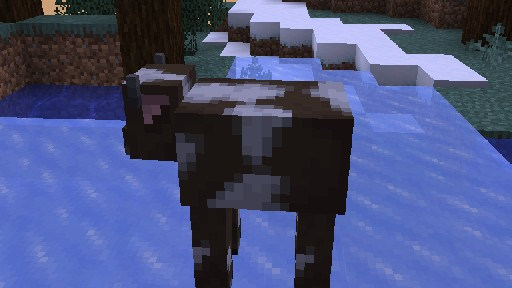cow: (121, 52, 353, 288)
